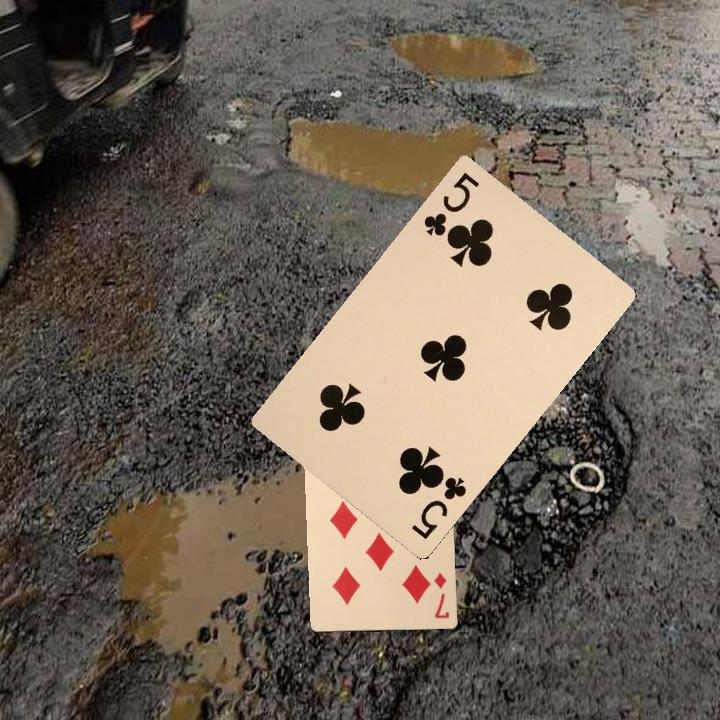5c: (419, 168, 482, 239), (407, 470, 469, 542)
7d: (430, 568, 451, 621)
